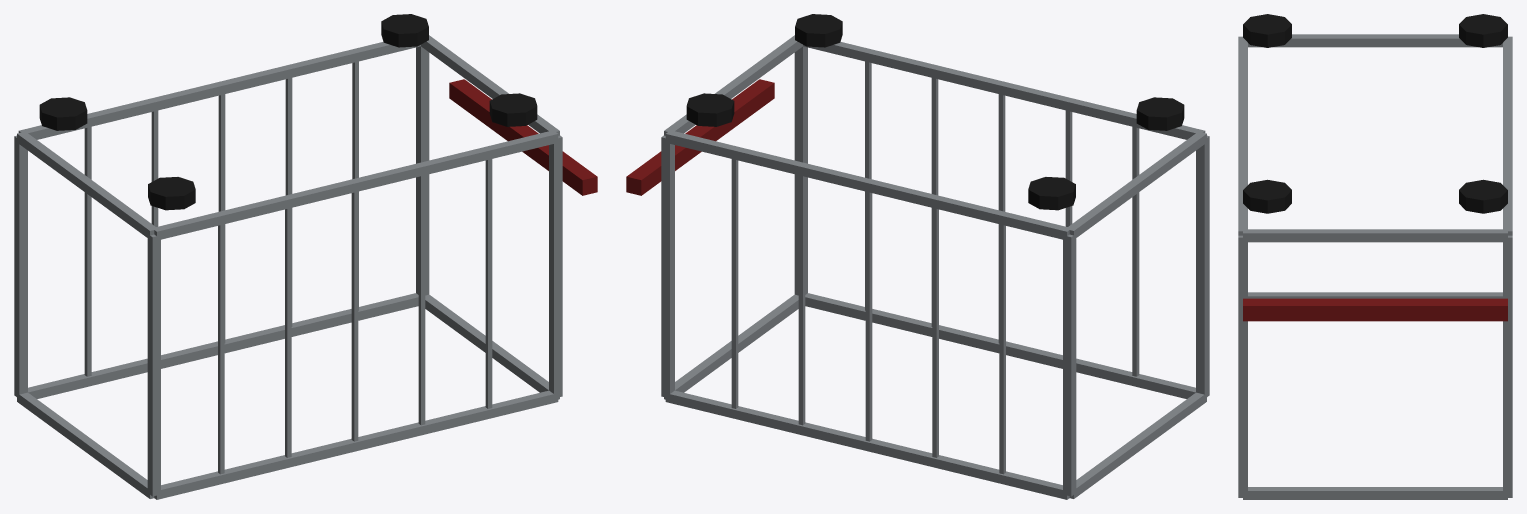
Rendered from fallen_cart.glb.
3 views of the same model, side by side, from view 1: azimuth 30°, elevation 25°; view 2: azimuth 150°, elevation 25°; view 3: azimuth 270°, elevation 25° (orthographic).
Parts seen in each view (by area): view 1: fallen_cart; view 2: fallen_cart; view 3: fallen_cart.
Part boxes in pixels (<box>): fallen_cart: <box>14,14,597,499</box>; fallen_cart: <box>626,14,1209,499</box>; fallen_cart: <box>1238,14,1512,499</box>.
Bounding box in the file's own units: 1.05 × 0.66 × 0.56.
